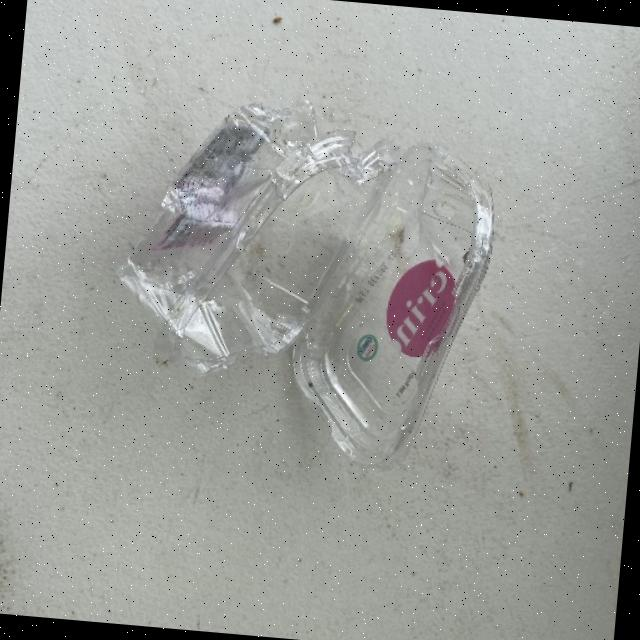plastic: (100, 83, 503, 476)
